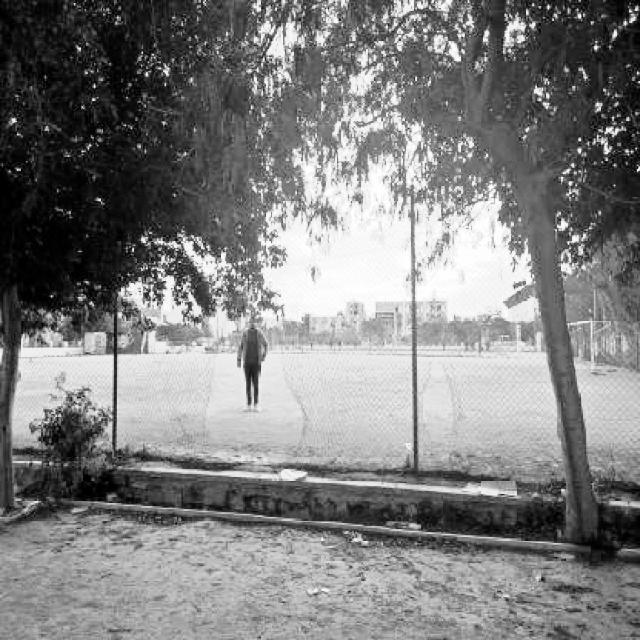anomaly-fence: (198, 272, 314, 484), (394, 316, 480, 486)
